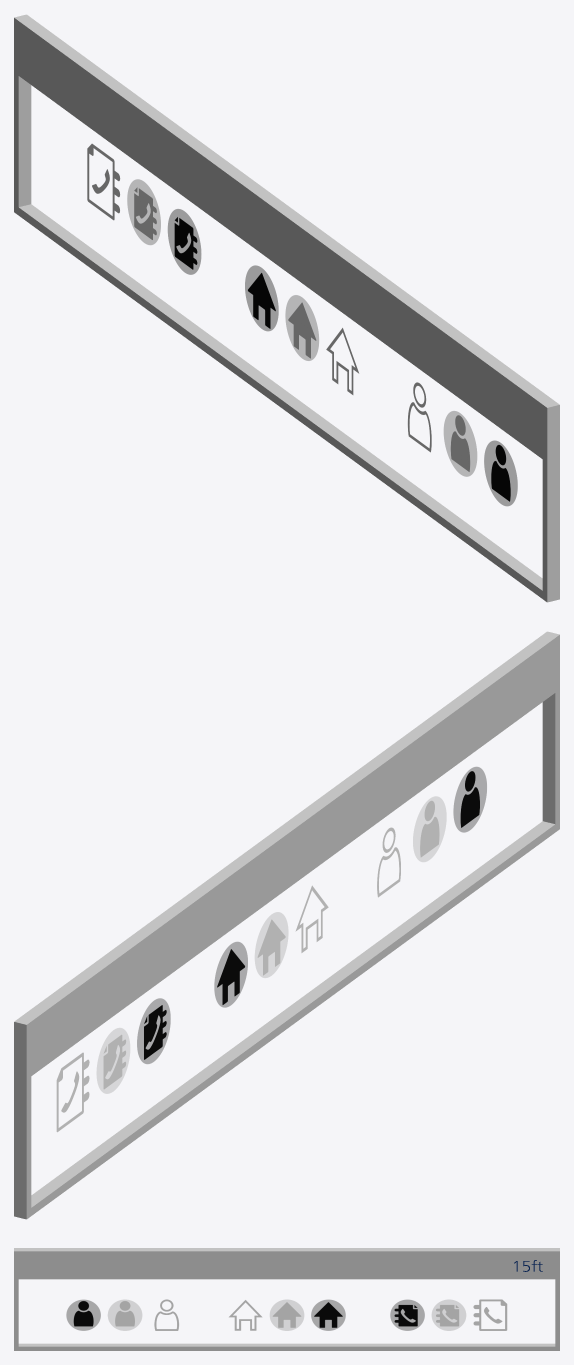
The picture shows the model from 3 angles, top to bottom: view 1: azimuth 30°, elevation 25°; view 2: azimuth 150°, elevation 25°; view 3: azimuth 270°, elevation 25°; orthographic projection. The views are drawn at different scales.
Visible parts, largest first — view 1: Text.003; view 2: Text.003; view 3: Text.003.
Boxes of the visible parts, x1,y1,x2,y2 form: Text.003: (14,14,559,602); Text.003: (14,631,559,1219); Text.003: (14,1248,559,1350).
Bounding box in the file's own units: 0.3407 × 2.92 × 14.5.
11 materials, 9 textured.
